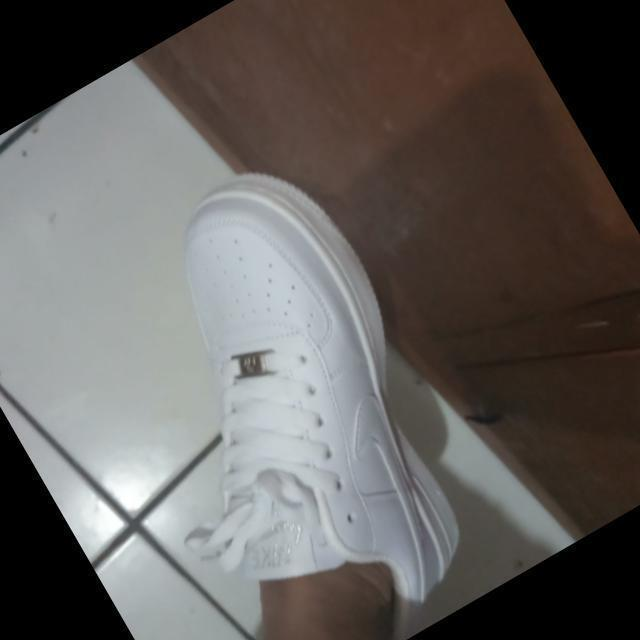nike fake air force: (69, 137, 539, 640)
